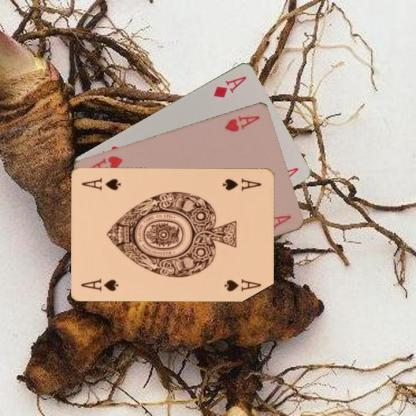Ad: (210, 73, 248, 99)
Ah: (222, 113, 261, 133)
As: (79, 275, 120, 292), (220, 175, 263, 191)
